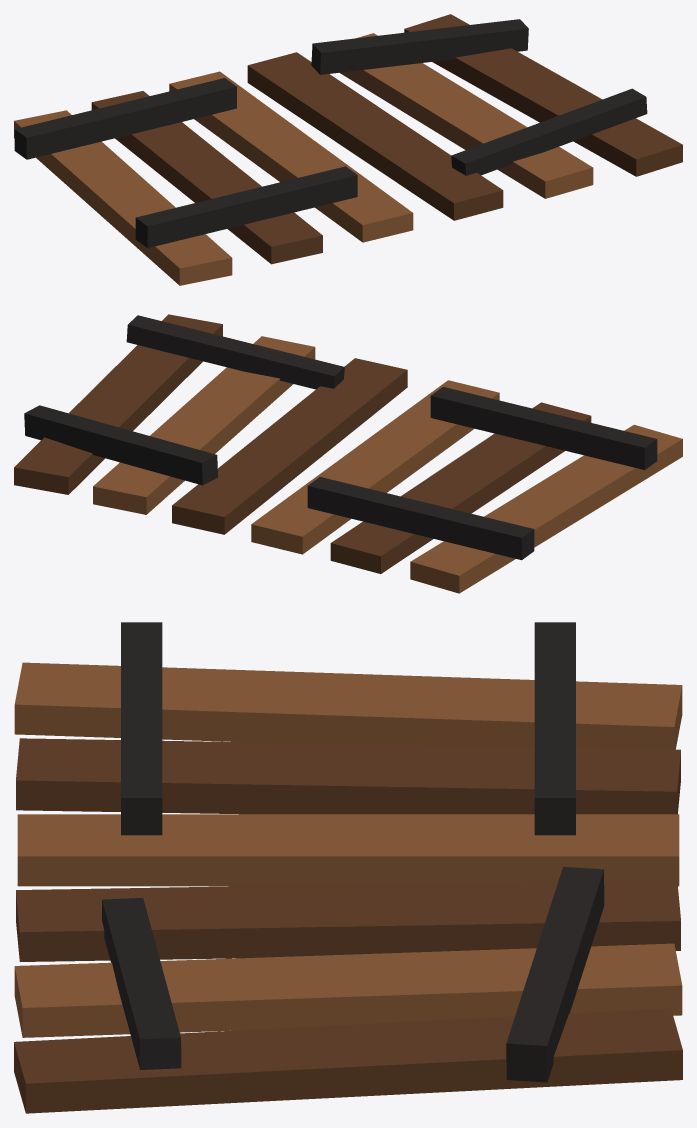
Rendered from BrokenTrack.fbx.
The picture shows the model from 3 angles, top to bottom: view 1: azimuth 30°, elevation 25°; view 2: azimuth 150°, elevation 25°; view 3: azimuth 270°, elevation 25°; orthographic projection. The views are drawn at different scales.
Parts seen in each view (by area): view 1: Ties, Rails; view 2: Ties, Rails; view 3: Ties, Rails.
Boxes of the visible parts, x1,y1,x2,y2 form: Ties: (14, 14, 682, 285); Rails: (14, 19, 647, 248); Ties: (14, 314, 682, 593); Rails: (24, 315, 657, 560); Ties: (14, 662, 682, 1113); Rails: (102, 622, 604, 1082).
Size of the model in its own units: 12 by 1 by 8.
